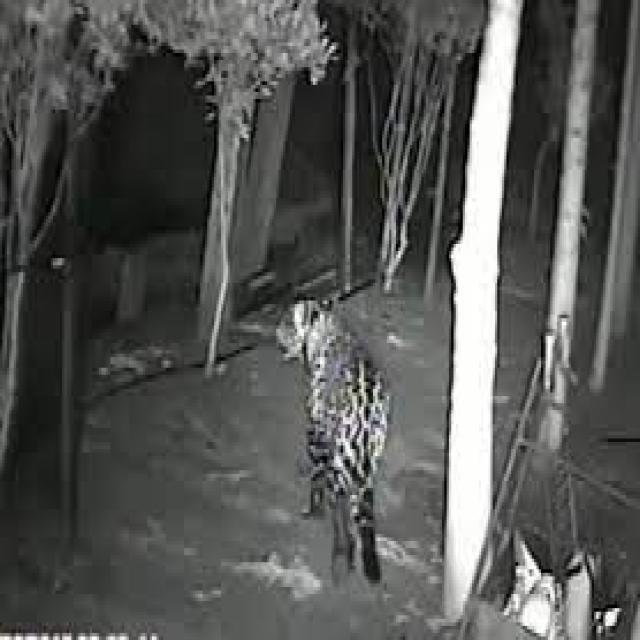Jaguar: (278, 290, 386, 594)
